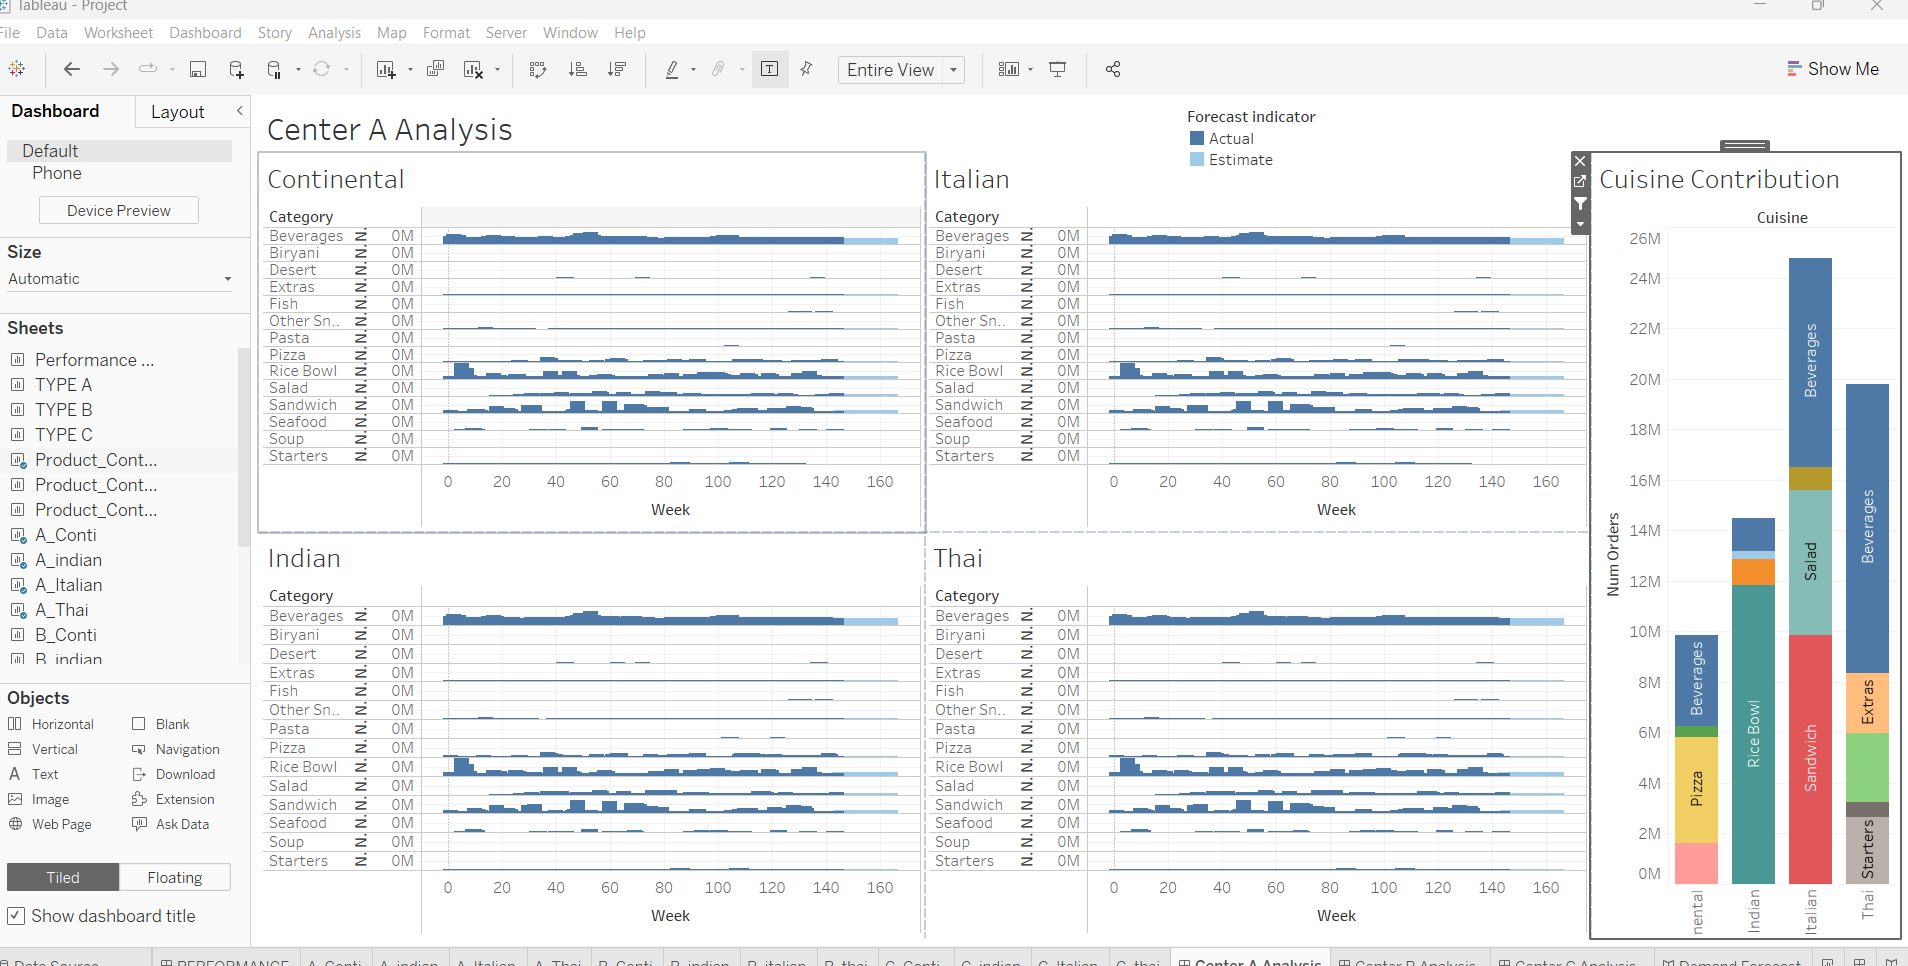

The dashboard page shown, as its layout file describes it:
{"tool":"tableau","page":{"name":"Center A Analysis","canvas":[1000,1000],"units":"permille","ordinal":0},"visuals":[{"type":"worksheet","title":"A_Conti","mark":"Bar","rows":["category","num_orders"],"cols":["week"],"box":[4.3,9.4,402.4,473.6]},{"type":"worksheet","title":"A_Italian","mark":"Bar","rows":["category","num_orders"],"cols":["week"],"box":[406.7,9.4,402.4,473.6]},{"type":"worksheet","title":"Product_Contri_A","mark":"Automatic","rows":["num_orders"],"cols":["cuisine"],"box":[809.2,9.4,186.5,981.2]},{"type":"legend","title":"A_Conti","param":"[federated.02gnjzc1abb3r21g8mcvu0128urh].[none:Forecast Indicator:nk]","box":[564.8,12.9,113.7,76.4]},{"type":"worksheet","title":"A_indian","mark":"Bar","rows":["category","num_orders"],"cols":["week"],"box":[4.3,483,402.4,507.6]},{"type":"worksheet","title":"A_Thai","mark":"Bar","rows":["category","num_orders"],"cols":["week"],"box":[406.7,483,402.4,507.6]}]}

Visuals, with their boxes on the dashboard's canvas, which has no fixed pixel size, in thousandths of its width and height (x1, y1, x2, y2). These are canvas units, not pixel positions in the 1908x966 screenshot, which may show the page scaled, cropped or inside an application window:
"A_Conti" worksheet (Bar marks): {"left": 4, "top": 9, "right": 407, "bottom": 483}
"A_Italian" worksheet (Bar marks): {"left": 407, "top": 9, "right": 809, "bottom": 483}
"Product_Contri_A" worksheet: {"left": 809, "top": 9, "right": 996, "bottom": 991}
"A_Conti" legend: {"left": 565, "top": 13, "right": 678, "bottom": 89}
"A_indian" worksheet (Bar marks): {"left": 4, "top": 483, "right": 407, "bottom": 991}
"A_Thai" worksheet (Bar marks): {"left": 407, "top": 483, "right": 809, "bottom": 991}
